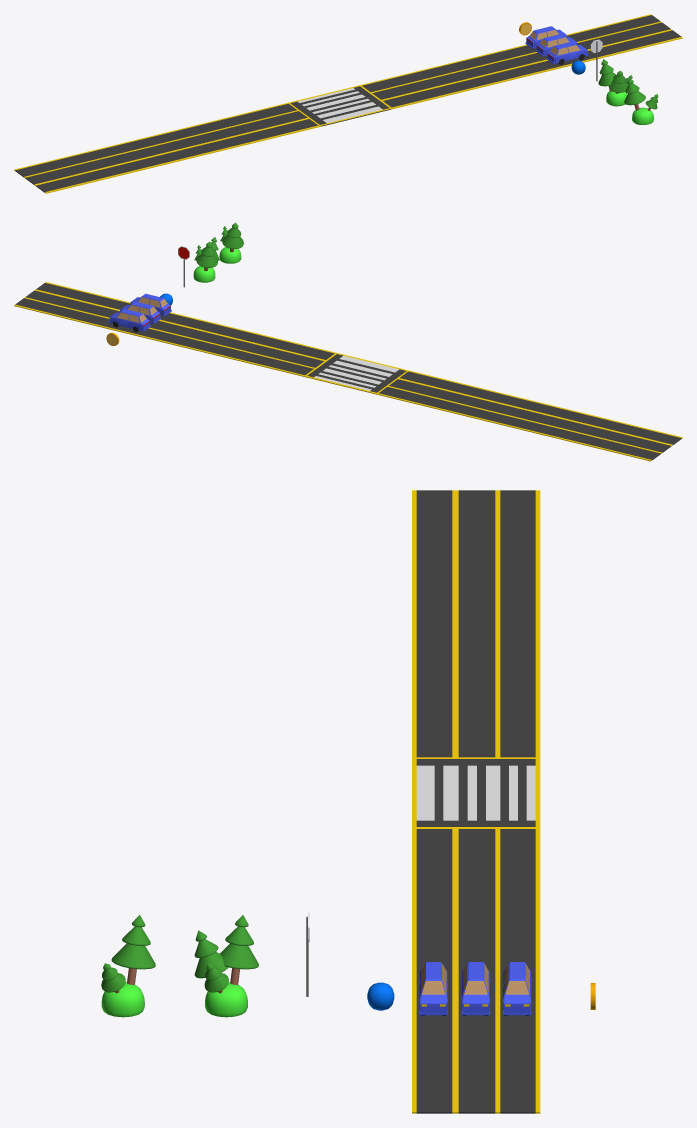
Rendered from ballsThroughtCars.fbx.
3 views of the same model, one above another, from view 1: azimuth 30°, elevation 25°; view 2: azimuth 150°, elevation 25°; view 3: azimuth 270°, elevation 25° (orthographic). The views are drawn at different scales.
Visible parts, largest first — view 1: Куб.001, Куб, Куб.003, Куб.004, Куб.014, Куб.015, Куб.009; view 2: Куб.001, Куб.004, Куб, Куб.003, Куб.014, Куб.009; view 3: Куб.001, Куб.003, Куб, Куб.004, Куб.014, Куб.009, Куб.015, Куб.008.
Boxes of the visible parts, x1=… form: Куб.001: x1=14, y1=14, x2=682, y2=193; Куб: x1=546, y1=41, x2=588, y2=63; Куб.003: x1=535, y1=33, x2=576, y2=56; Куб.004: x1=525, y1=26, x2=566, y2=48; Куб.014: x1=624, y1=78, x2=645, y2=110; Куб.015: x1=632, y1=107, x2=653, y2=124; Куб.009: x1=598, y1=59, x2=615, y2=91; Куб.001: x1=14, y1=282, x2=682, y2=461; Куб.004: x1=108, y1=309, x2=150, y2=331; Куб: x1=130, y1=293, x2=171, y2=316; Куб.003: x1=120, y1=301, x2=161, y2=323; Куб.014: x1=222, y1=222, x2=243, y2=252; Куб.009: x1=196, y1=241, x2=217, y2=271; Куб.001: x1=412, y1=490, x2=540, y2=1113; Куб.003: x1=461, y1=962, x2=490, y2=1015; Куб: x1=419, y1=962, x2=447, y2=1015; Куб.004: x1=503, y1=962, x2=531, y2=1015; Куб.014: x1=111, y1=915, x2=155, y2=984; Куб.009: x1=220, y1=915, x2=258, y2=984; Куб.015: x1=101, y1=982, x2=144, y2=1017; Куб.008: x1=205, y1=982, x2=247, y2=1017.
Size of the model in its own units: 10966 by 772 by 3685.
